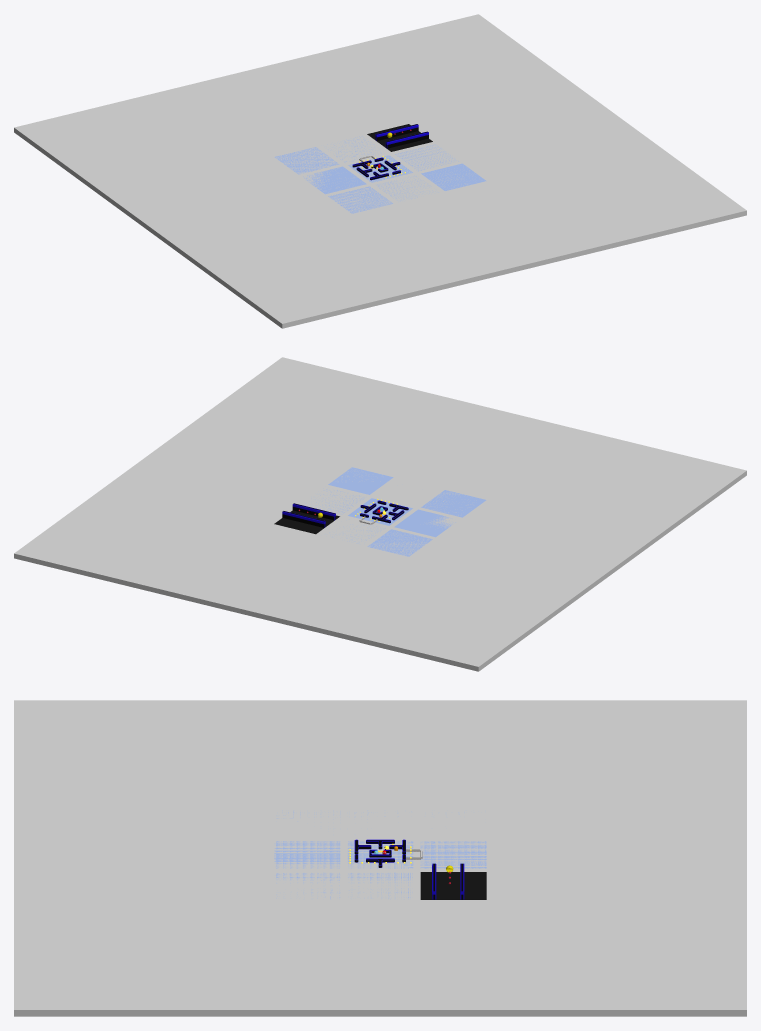
The model's file is world.glb.
3 views of the same model, one above another, from view 1: azimuth 30°, elevation 25°; view 2: azimuth 150°, elevation 25°; view 3: azimuth 270°, elevation 25° (orthographic). The views are drawn at different scales.
Parts seen in each view (by area): view 1: Ground, Plot.009, Plot.001, Plot.004, Plot.007, Plot.005, Plot.006; view 2: Ground, Plot.009, Plot.007, Plot.001, Plot.004, Plot.005, Cube.001; view 3: Ground, Cube.001, Plot.002, Plot.008, Plot.005, Mesh_5-Pacman-Eye, Mesh_6.
Part boxes in pixels (box(x1,y1,x2,y2)): Ground: box(14, 14, 746, 328); Plot.009: box(421, 163, 486, 190); Plot.001: box(274, 147, 339, 174); Plot.004: box(303, 166, 366, 194); Plot.007: box(328, 186, 392, 213); Plot.005: box(348, 155, 412, 182); Plot.006: box(395, 144, 458, 171); Ground: box(14, 357, 746, 671); Plot.009: box(328, 467, 393, 494); Plot.007: box(421, 490, 486, 517); Plot.001: box(367, 529, 432, 556); Plot.004: box(394, 509, 455, 537); Plot.005: box(348, 498, 412, 525); Cube.001: box(274, 510, 339, 534); Ground: box(14, 700, 746, 1016); Cube.001: box(420, 872, 486, 899); Plot.002: box(420, 841, 486, 868); Plot.008: box(274, 841, 340, 868); Plot.005: box(347, 841, 413, 868); Mesh_5-Pacman-Eye: box(354, 840, 405, 867); Mesh_6: box(354, 839, 405, 867).
Bounding box in the file's own units: 200 × 5.78 × 200.
Materials: 17 (1 with a texture image).
